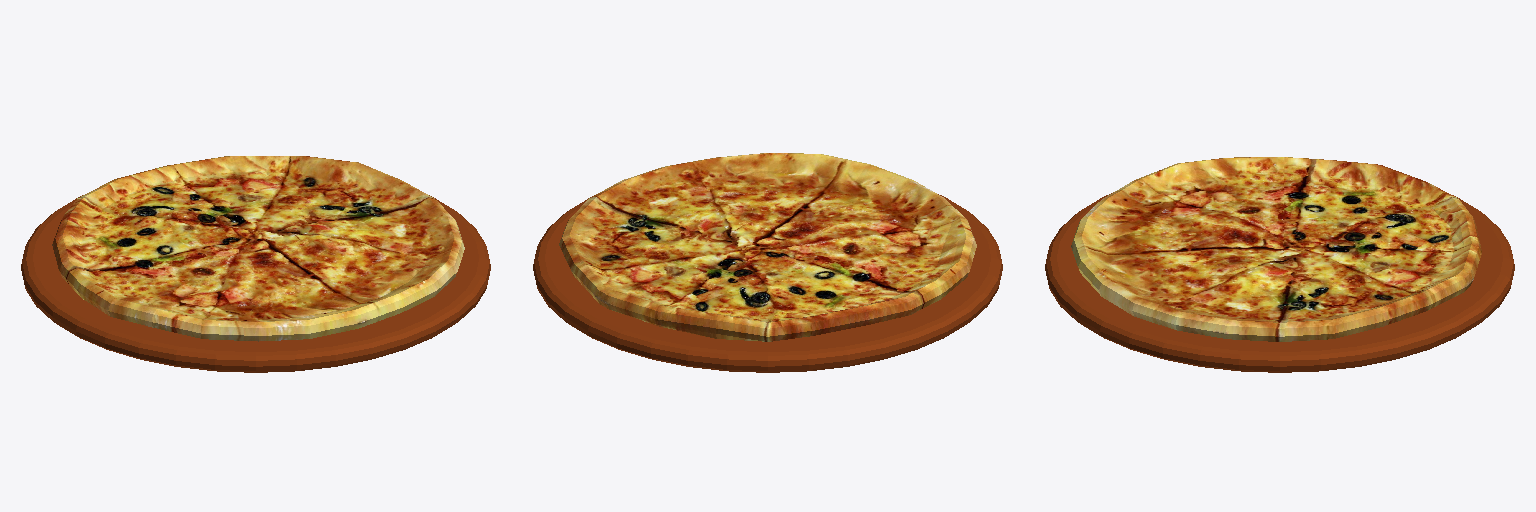
3 renders of one model, left to right at view 1: azimuth 30°, elevation 25°; view 2: azimuth 150°, elevation 25°; view 3: azimuth 270°, elevation 25°, orthographic.
Parts seen in each view (by area): view 1: Mesh3 Model, Mesh1 Component_1_1 Model, Mesh2 Component_1_2 Model; view 2: Mesh3 Model, Mesh1 Component_1_1 Model, Mesh2 Component_1_2 Model; view 3: Mesh3 Model, Mesh1 Component_1_1 Model, Mesh2 Component_1_2 Model.
Part boxes in pixels (left/top/right/bottom): Mesh3 Model: left=52, top=156, right=464, bottom=341; Mesh1 Component_1_1 Model: left=21, top=195, right=490, bottom=366; Mesh2 Component_1_2 Model: left=25, top=286, right=486, bottom=372; Mesh3 Model: left=559, top=153, right=976, bottom=341; Mesh1 Component_1_1 Model: left=533, top=194, right=1002, bottom=366; Mesh2 Component_1_2 Model: left=537, top=286, right=998, bottom=372; Mesh3 Model: left=1071, top=157, right=1481, bottom=341; Mesh1 Component_1_1 Model: left=1045, top=193, right=1514, bottom=366; Mesh2 Component_1_2 Model: left=1049, top=286, right=1510, bottom=372.
Bounding box in the file's own units: 0.45 × 0.044 × 0.45.
2 materials, 1 textured.